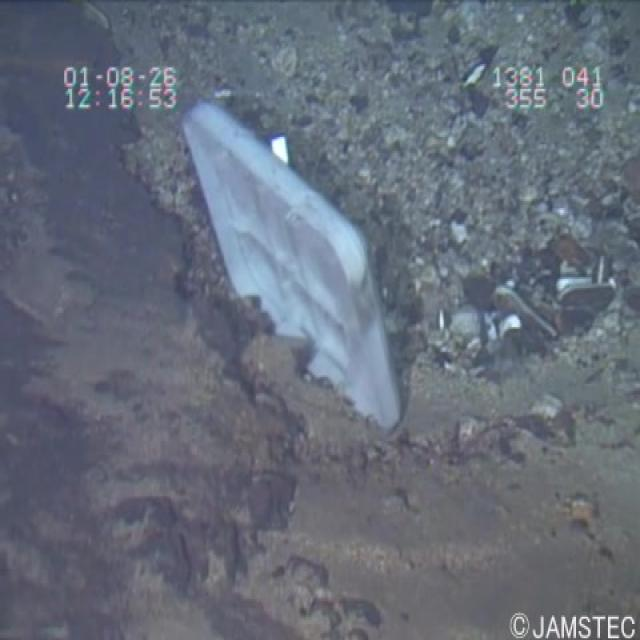plastic: (175, 80, 421, 475)
